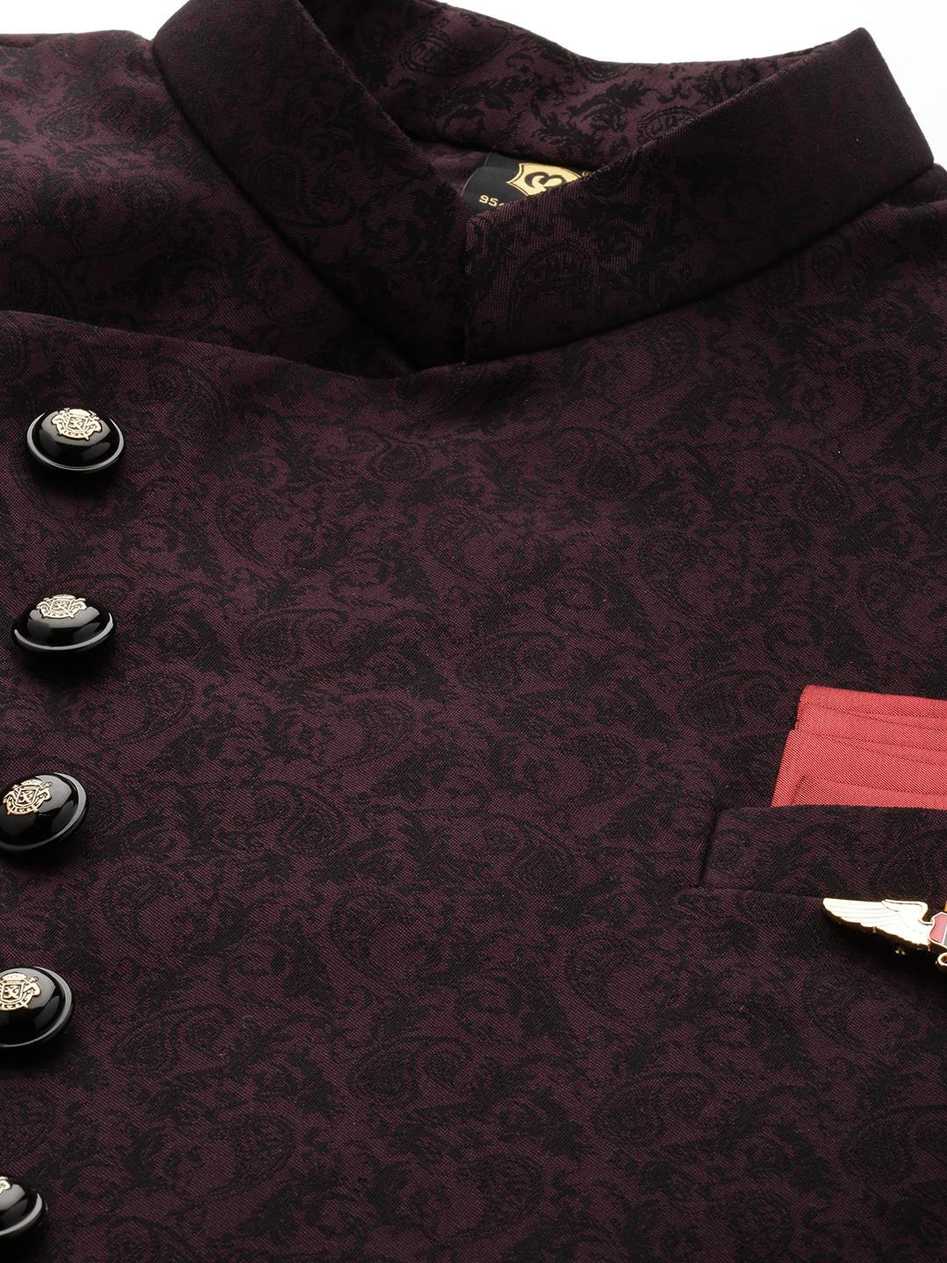Design Sherwani: (2, 3, 943, 1260)
